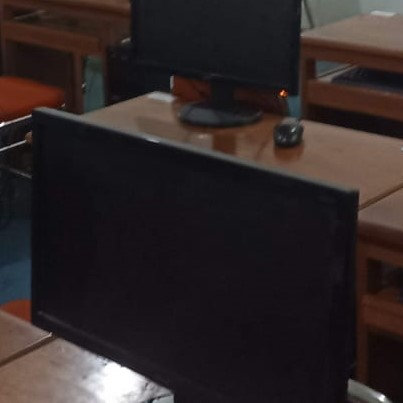monitor: (30, 106, 361, 398), (129, 0, 302, 97)
